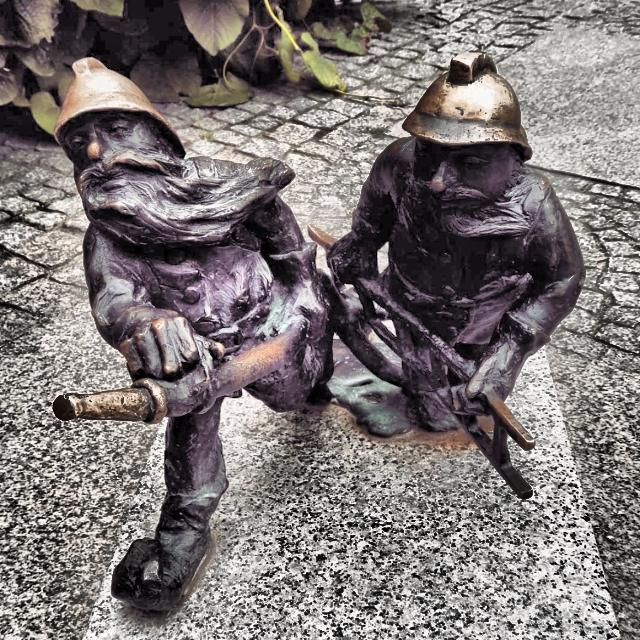Pozarki: (42, 52, 592, 617)
